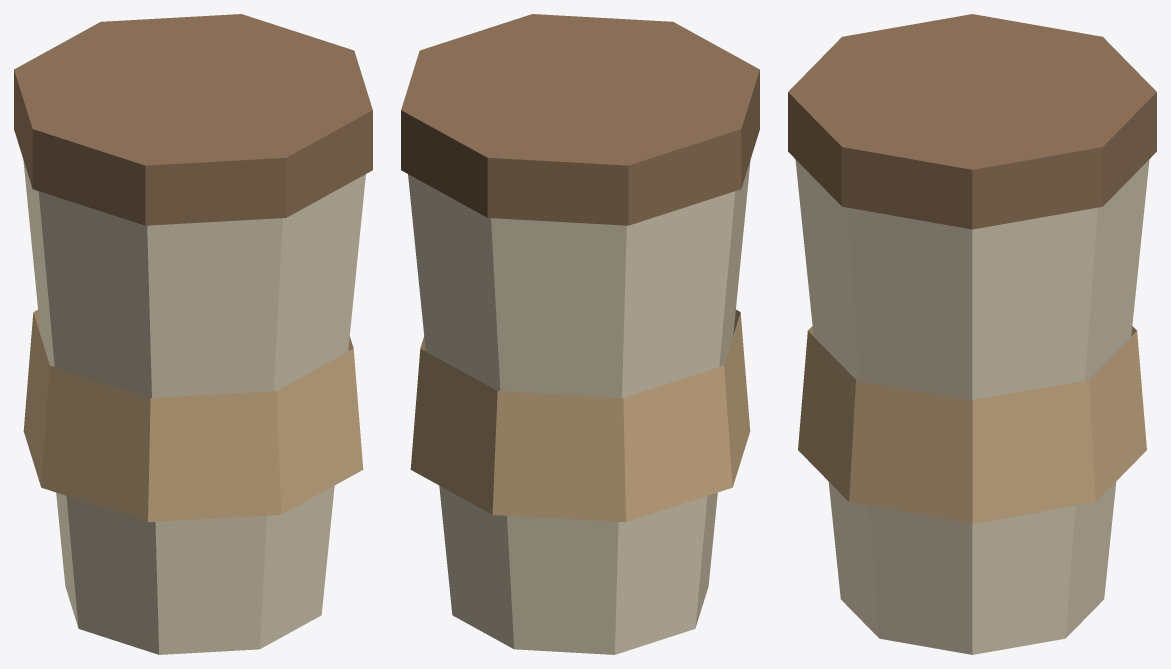
The model's file is Basura_Papel_VasoCafe.fbx.
The picture shows the model from 3 angles, left to right: view 1: azimuth 30°, elevation 25°; view 2: azimuth 150°, elevation 25°; view 3: azimuth 270°, elevation 25°; orthographic projection.
Parts seen in each view (by area): view 1: Basura_Papel_VasoCafe; view 2: Basura_Papel_VasoCafe; view 3: Basura_Papel_VasoCafe.
Boxes of the visible parts, x1,y1,x2,y2 form: Basura_Papel_VasoCafe: (14, 14, 372, 654); Basura_Papel_VasoCafe: (401, 14, 759, 654); Basura_Papel_VasoCafe: (788, 14, 1156, 654).
Size of the model in its own units: 0.56 by 0.85 by 0.56.
1 material, 1 textured.
